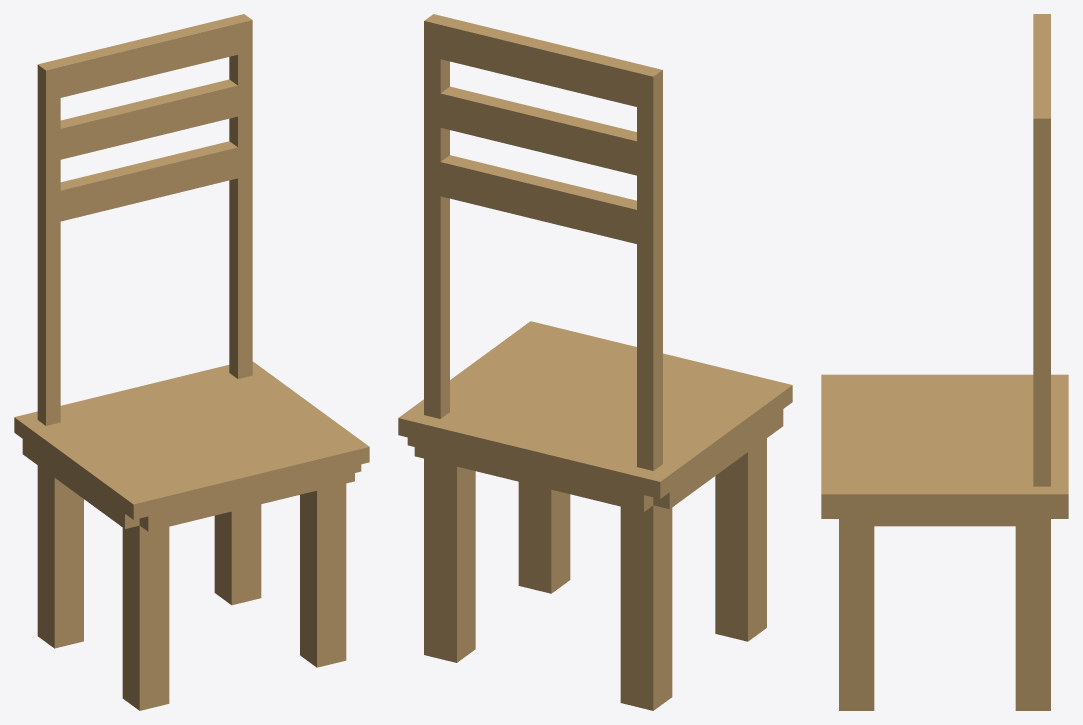
Rendered from IKEA_Silla2.fbx.
3 views of the same model, side by side, from view 1: azimuth 30°, elevation 25°; view 2: azimuth 150°, elevation 25°; view 3: azimuth 270°, elevation 25° (orthographic). The views are drawn at different scales.
Visible parts, largest first — view 1: IKEA_Silla2; view 2: IKEA_Silla2; view 3: IKEA_Silla2.
Part boxes in pixels (x1=…): IKEA_Silla2: x1=14, y1=14, x2=369, y2=710; IKEA_Silla2: x1=398, y1=14, x2=792, y2=710; IKEA_Silla2: x1=821, y1=14, x2=1068, y2=710.
Size of the model in its own units: 160 by 370 by 140.
